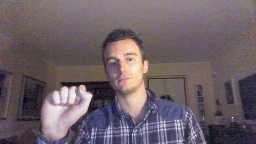Pugno: (37, 82, 93, 135)
